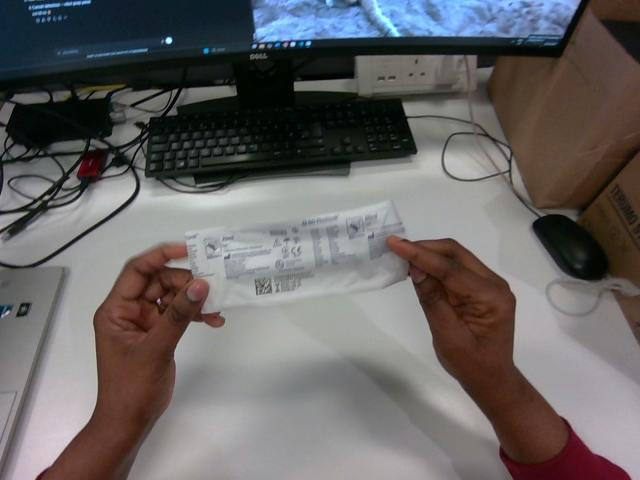syringe: (186, 201, 407, 312)
